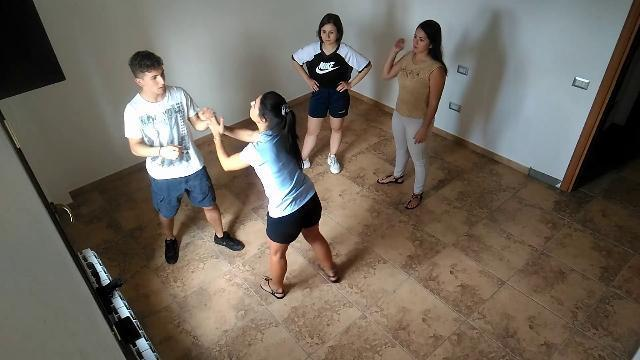non-violence: (374, 18, 450, 211), (289, 12, 373, 176)
violence: (124, 45, 342, 301)
